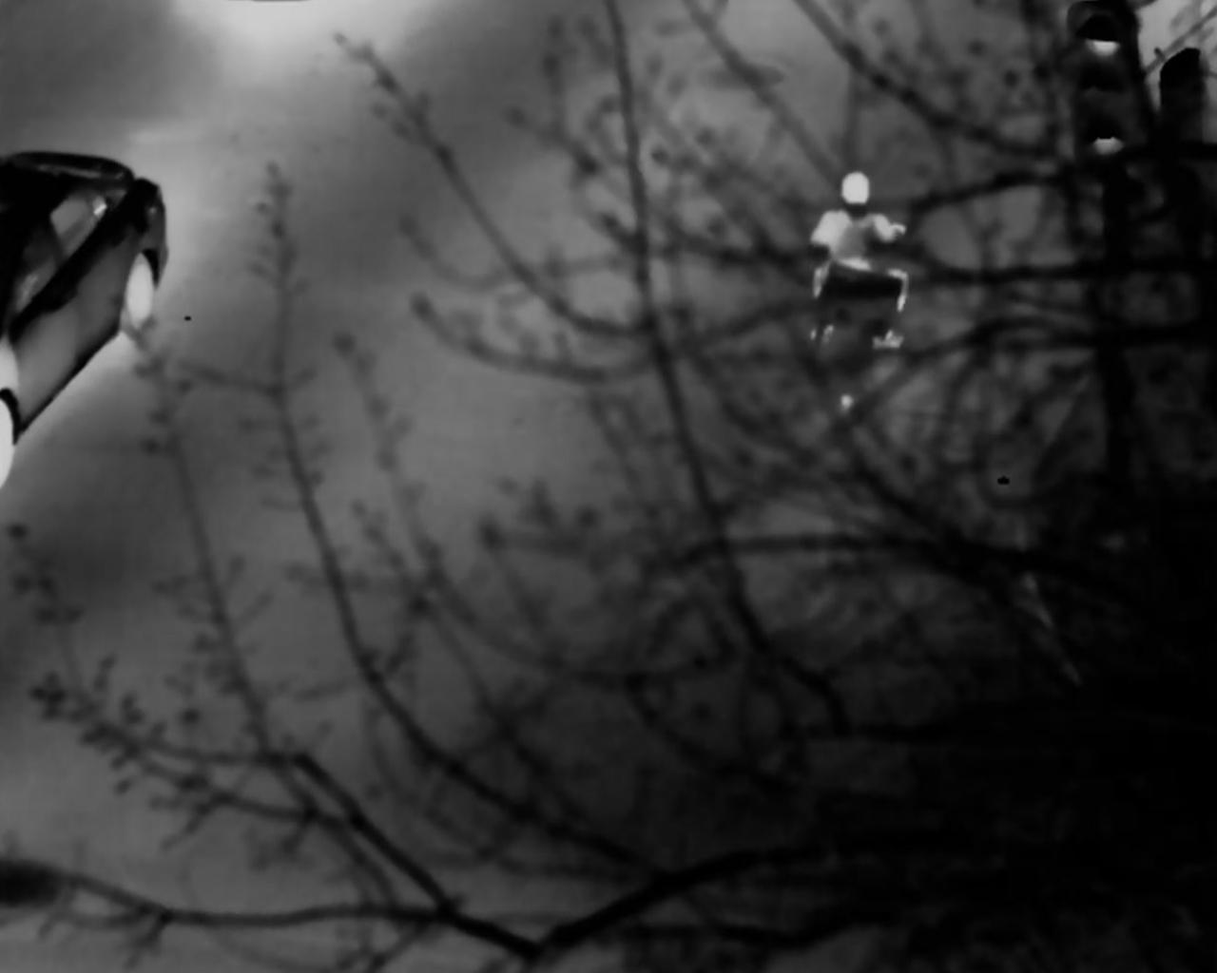person: (809, 161, 909, 334)
